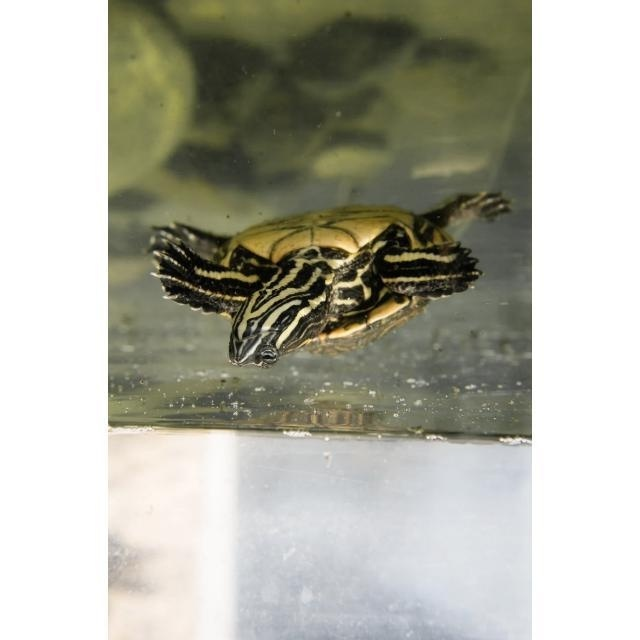turtle: (145, 189, 514, 369)
